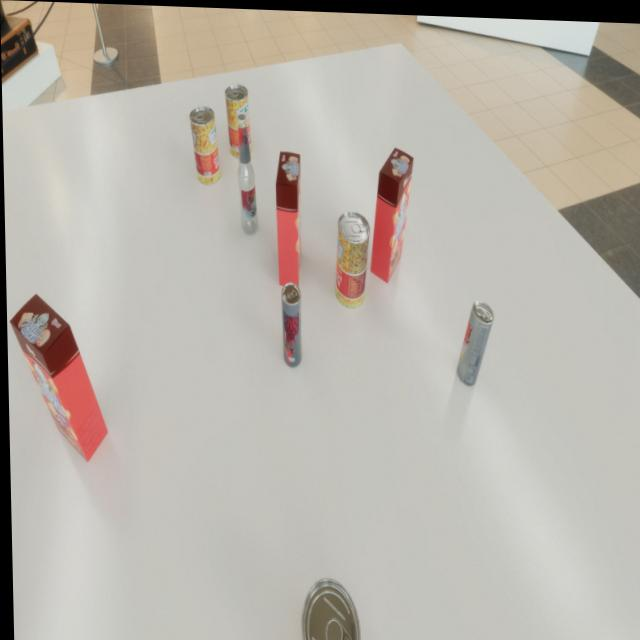Bottle: (235, 112, 257, 233)
HelloPanda: (8, 293, 107, 462), (367, 143, 415, 281), (274, 149, 302, 286)
Potato_sticks: (298, 574, 358, 640), (332, 208, 370, 306), (189, 104, 220, 184), (224, 82, 252, 157)
Rita_zero_sugar: (454, 297, 493, 384), (280, 280, 301, 366)
